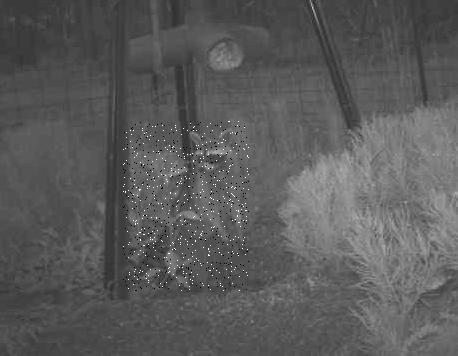Raccoon: (122, 122, 248, 292)
